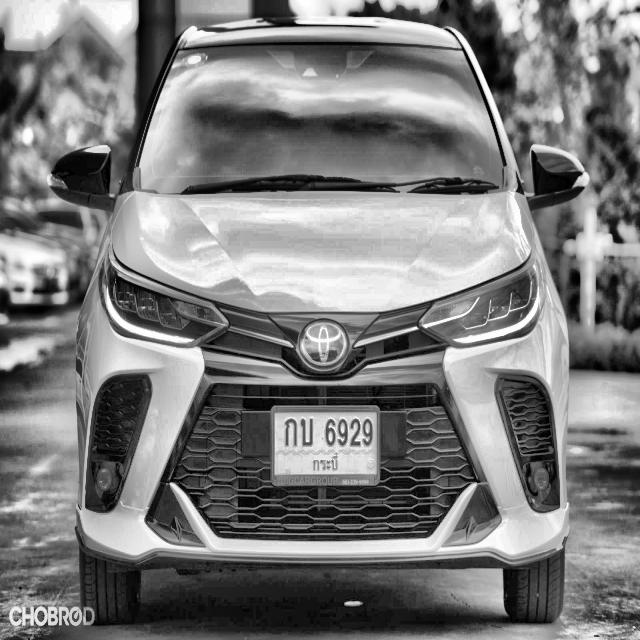license-plate: (269, 396, 382, 491)
